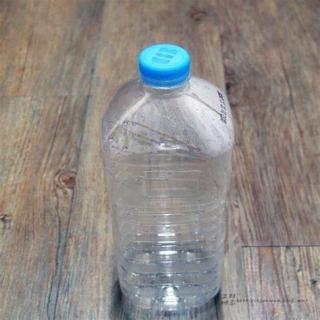Anorganik: (96, 40, 235, 312)
